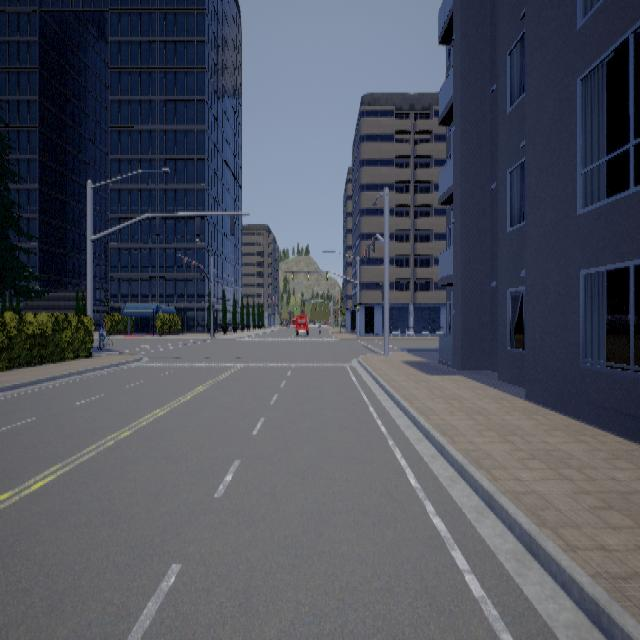red_light: (362, 244, 369, 263), (370, 234, 374, 251)
traffic_light: (365, 248, 368, 254)
vehicle: (293, 311, 309, 337)
yellow_light: (326, 270, 328, 280), (291, 270, 293, 280), (308, 272, 309, 280)
